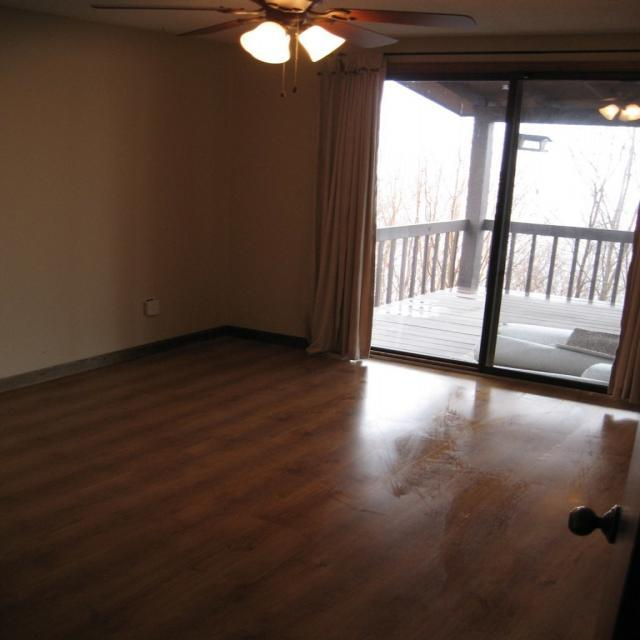fan_off: (90, 0, 484, 49)
